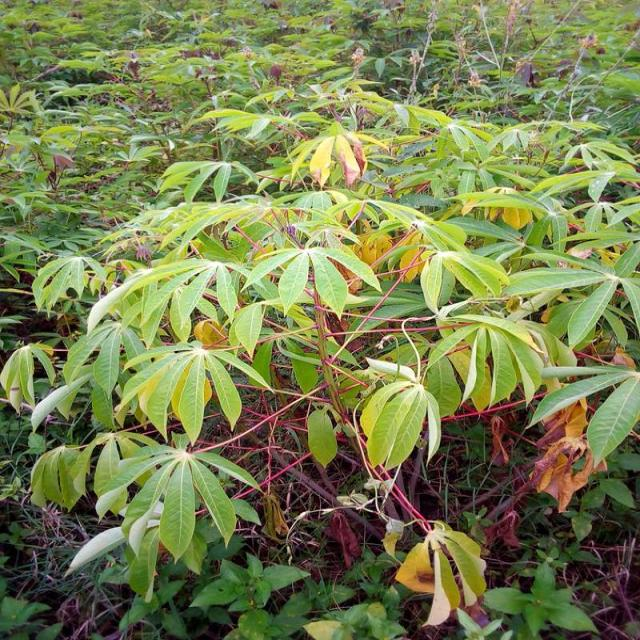cassava leaf: (2, 6, 640, 636), (395, 518, 488, 628)
